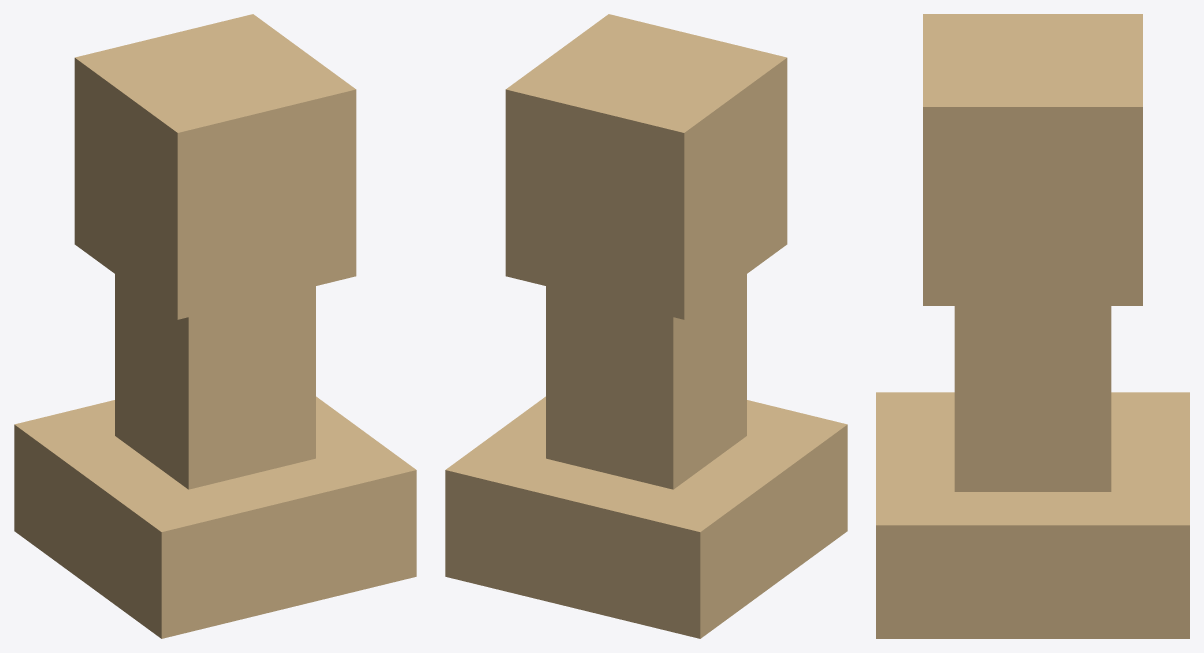
Rendered from whitePawnModel.obj.
The picture shows the model from 3 angles, left to right: view 1: azimuth 30°, elevation 25°; view 2: azimuth 150°, elevation 25°; view 3: azimuth 270°, elevation 25°; orthographic projection. The views are drawn at different scales.
Parts seen in each view (by area): view 1: cuboid; view 2: cuboid; view 3: cuboid.
Part boxes in pixels (box(x1,y1,x2,y2)): cuboid: box(14, 14, 416, 638); cuboid: box(445, 14, 847, 638); cuboid: box(876, 14, 1189, 638).
Bounding box in the file's own units: 0.625 × 1.12 × 0.625.
Materials: 1 (1 with a texture image).
